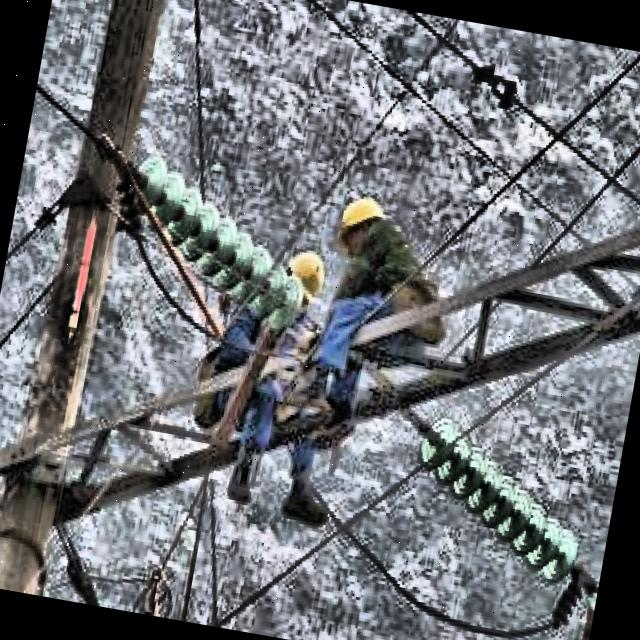helmet: (332, 190, 389, 262), (280, 244, 332, 305)
